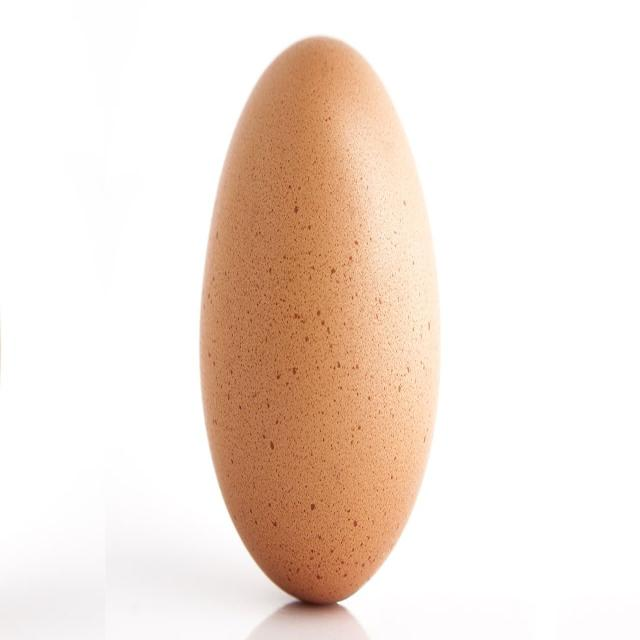egg: (196, 31, 445, 619)
